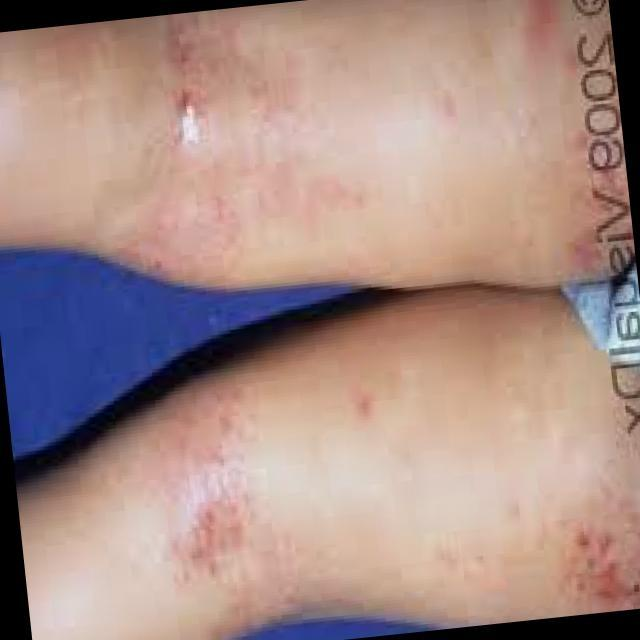Eczema: (140, 31, 368, 254), (181, 434, 267, 579)
